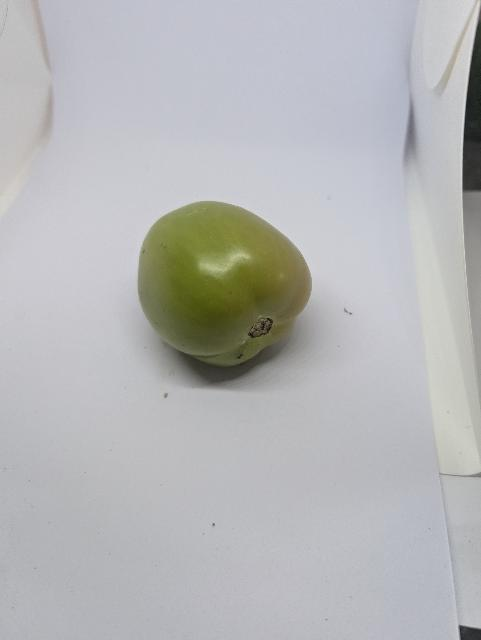green: (129, 192, 328, 385)
